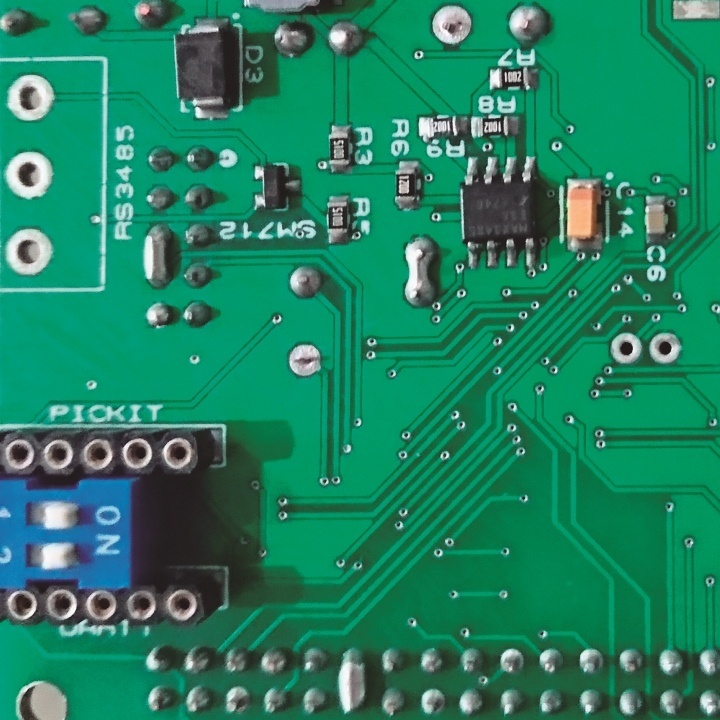F: (4, 73, 59, 126), (4, 146, 56, 202), (3, 226, 58, 278), (427, 1, 477, 50), (647, 327, 688, 369), (284, 341, 324, 381), (608, 329, 646, 365), (574, 642, 607, 679), (220, 683, 253, 718), (496, 643, 526, 678), (419, 688, 450, 718)
P: (139, 221, 176, 292), (401, 233, 434, 310), (335, 644, 368, 717)
